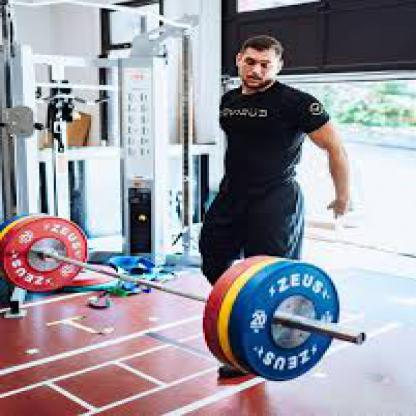Barbell: (220, 256, 352, 390)
